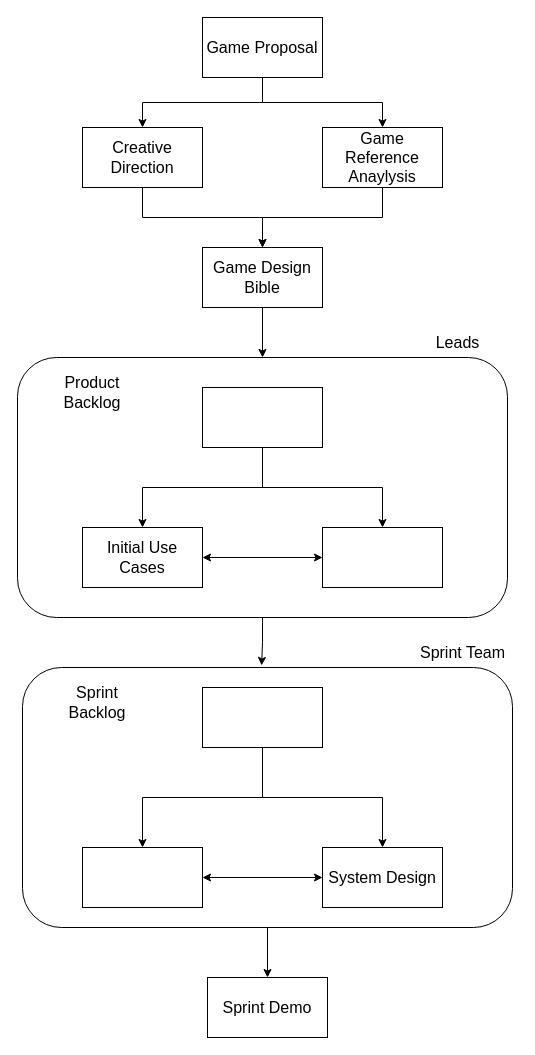
This 535x1055 diagram has some shape labels left out. Each missing label, with the centre of its shape:
"Concept" belongs at (382,557).
"Detailed Use Cases" belongs at (262,717).
"Development" belongs at (142,877).
"User Story" belongs at (262,417).
